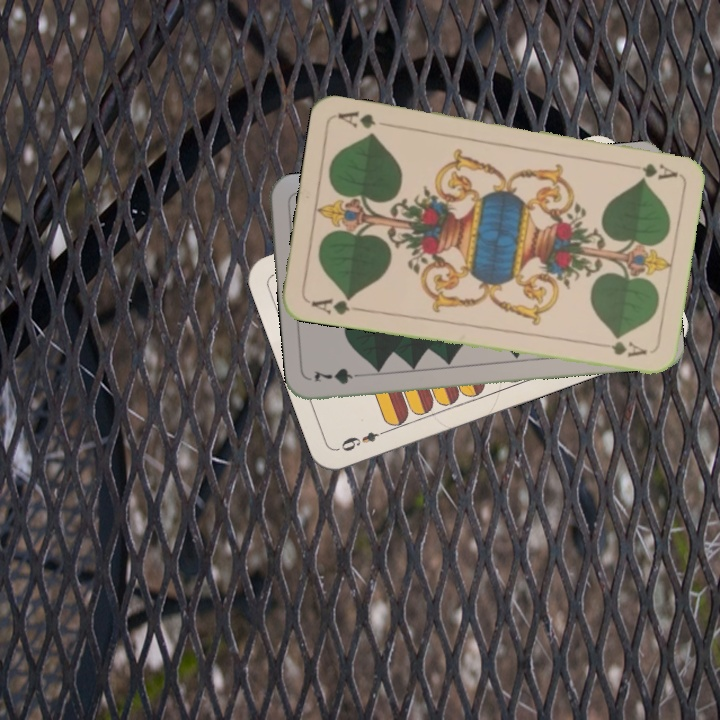E9: (334, 425, 392, 454)
G7: (309, 364, 369, 387)
GA: (307, 292, 365, 318), (637, 159, 680, 182)
